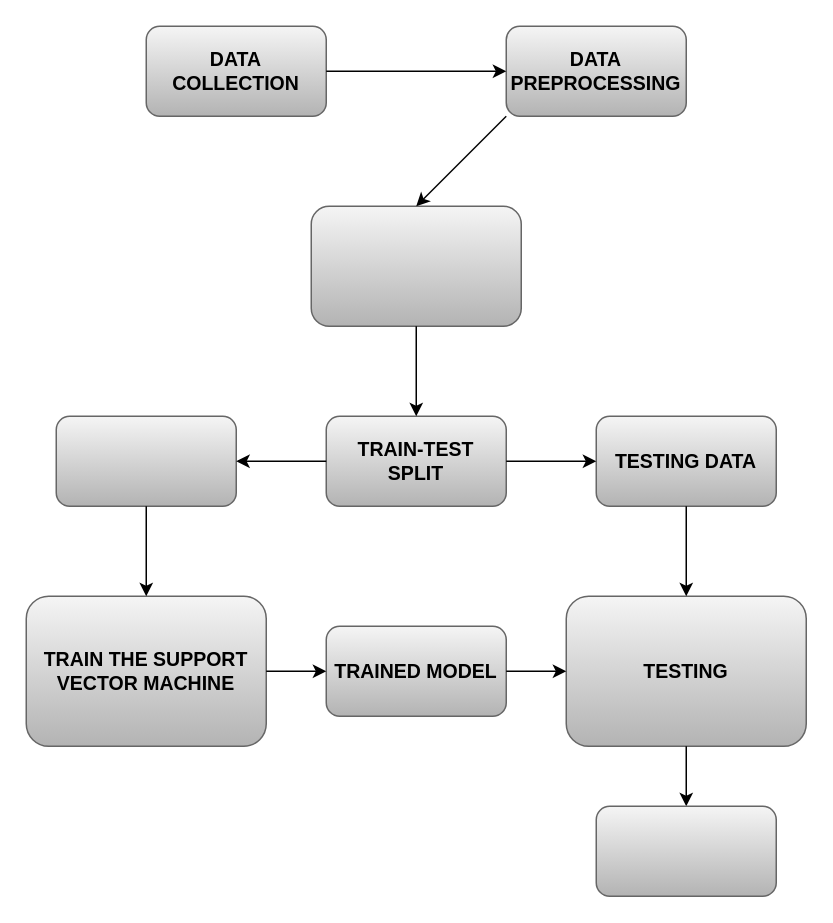
The diagram is 833 pixels wide and 923 high, and some of its shapes have lost their labels. Here are the shapes that lost their labels. From the top down, the box of each, then its label:
(310, 205, 521, 326): VECTORIZATION & TRANSFORMATION
(55, 415, 236, 506): TRAINING DATA
(595, 805, 776, 896): MODEL ACCURACY
